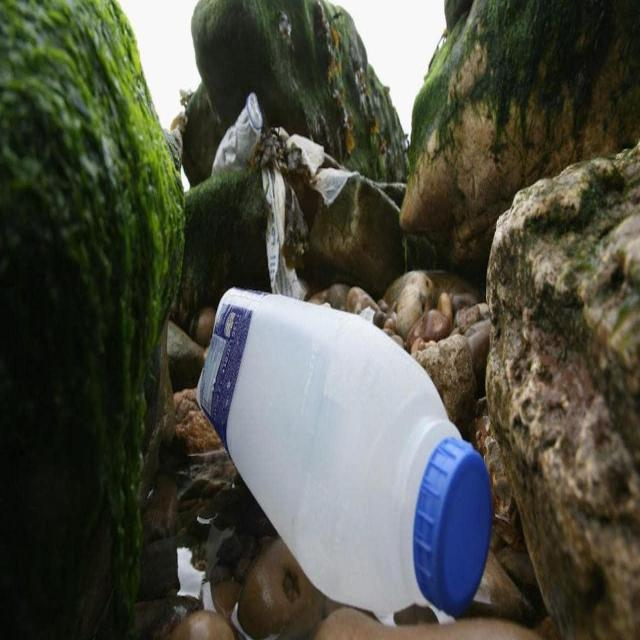paper: (263, 130, 301, 300)
plastic_bag: (285, 120, 355, 224)
plastic_bottle: (204, 282, 491, 630), (215, 81, 267, 182)
